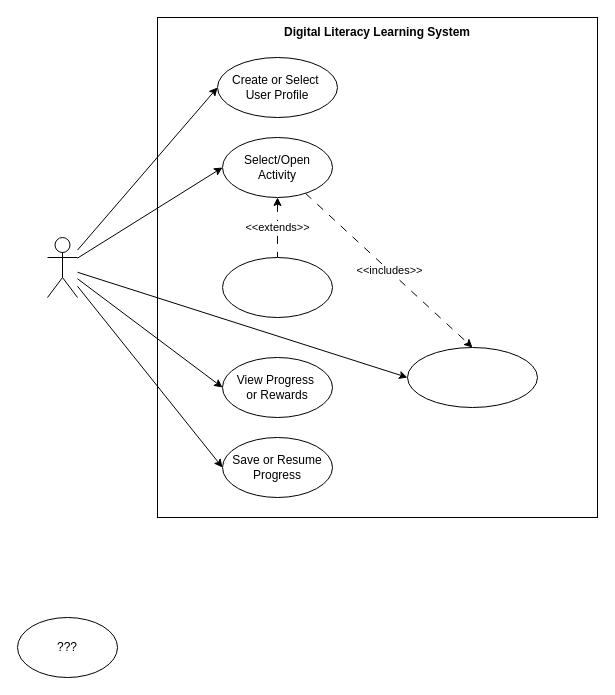
This 615x695 diagram has some shape labels left out. Here are the shapes that lost their labels. From the top down, the box of each, then its label:
(46, 236, 78, 298): user
(222, 256, 332, 318): Complete Activity
(406, 346, 538, 408): View Instructions or Help
